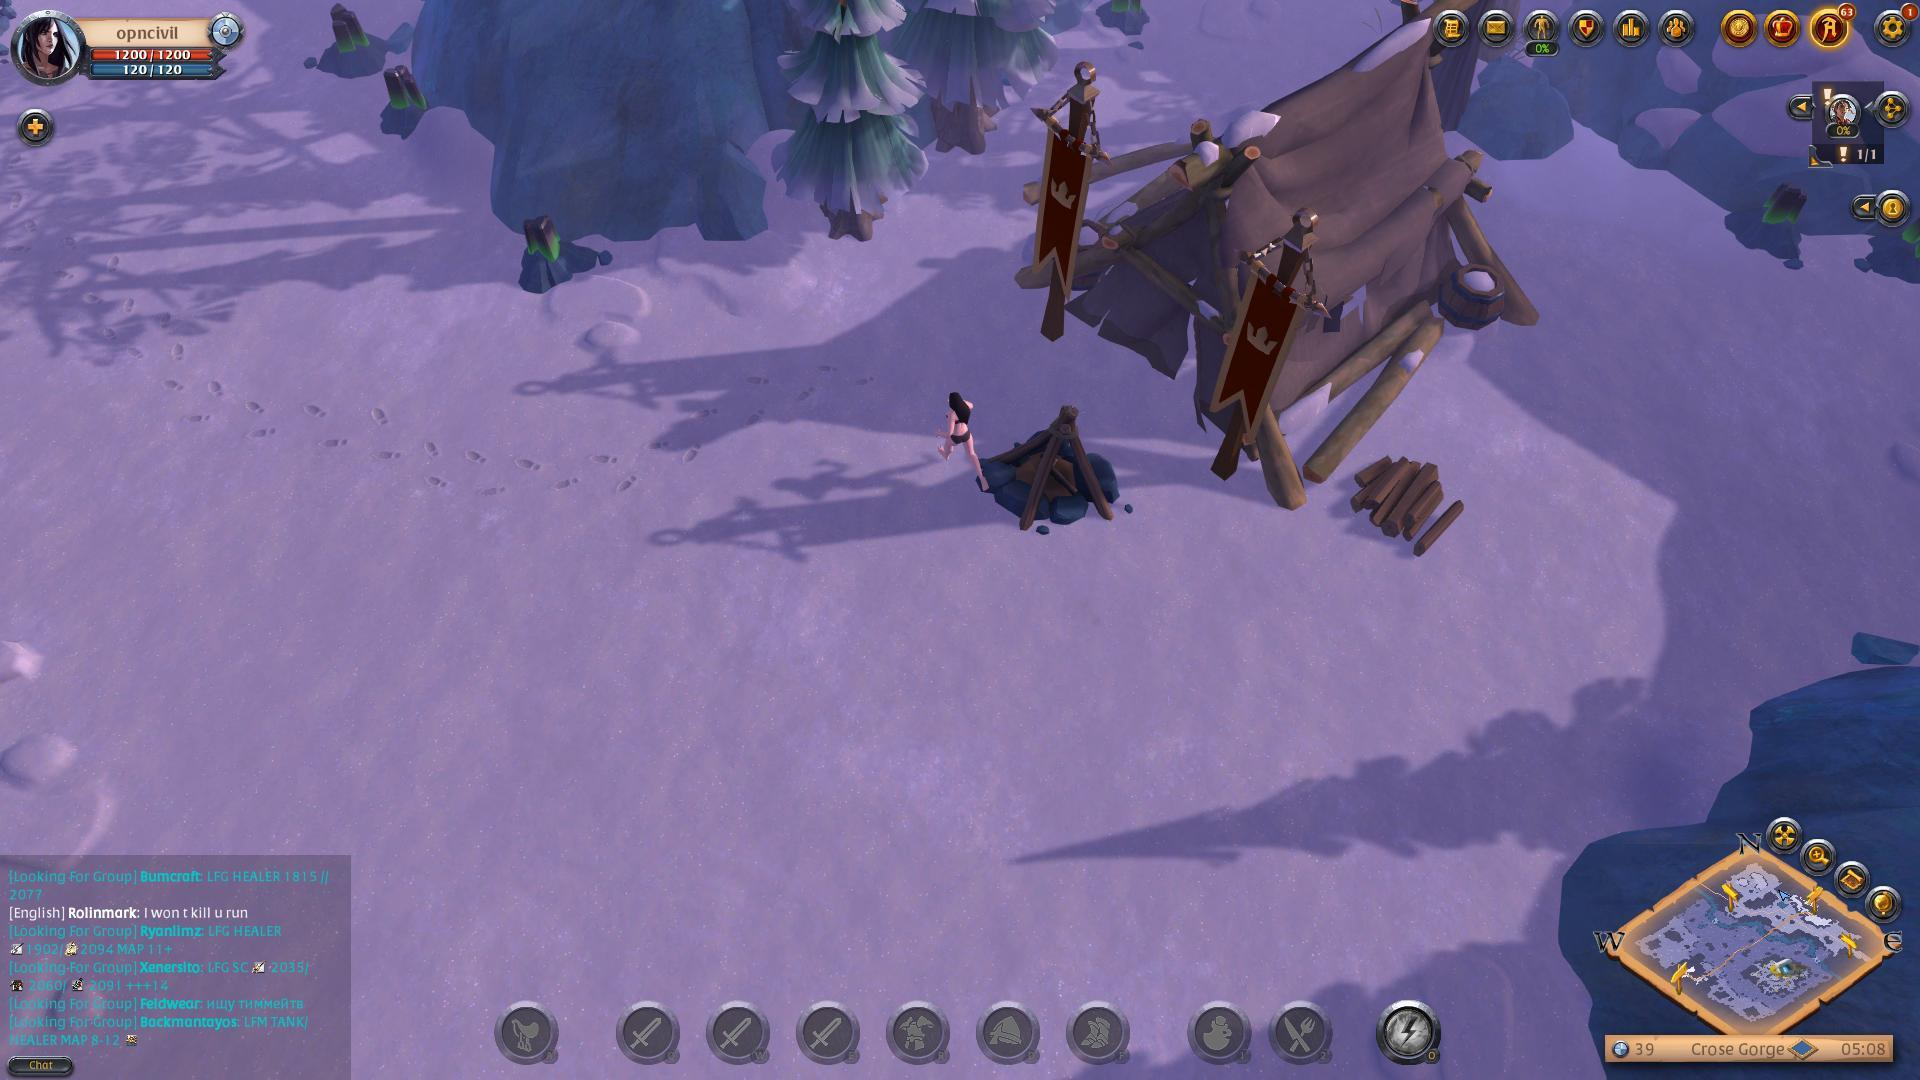tin_ore: (502, 206, 620, 307), (1717, 169, 1824, 278), (371, 63, 443, 142), (315, 1, 389, 78)
